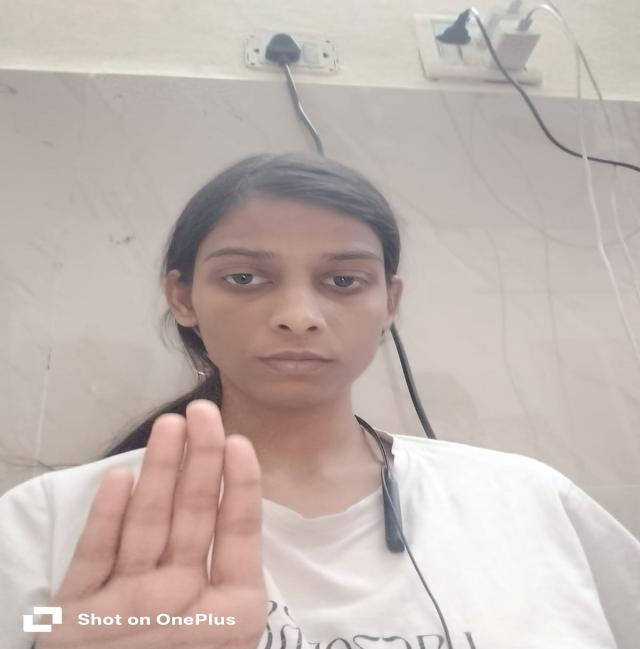Hello: (38, 380, 276, 649)
